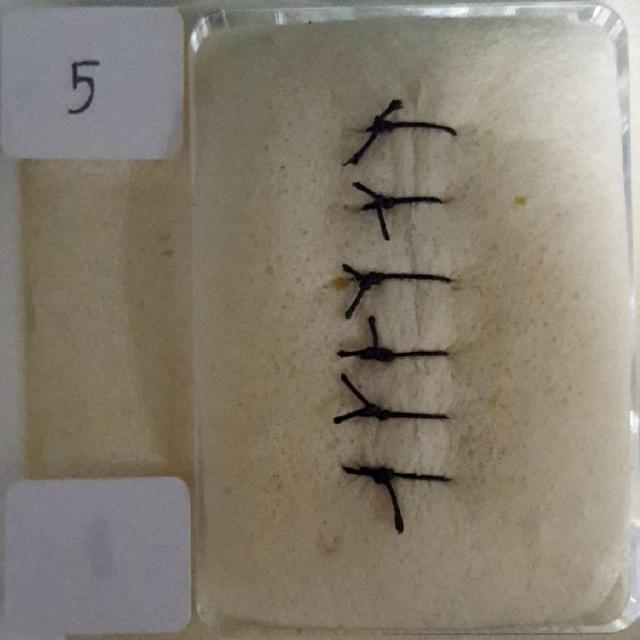knot: (361, 346, 395, 362), (360, 273, 385, 291), (362, 405, 391, 420), (372, 468, 393, 485), (375, 196, 395, 209), (372, 121, 393, 132)
leftover: (338, 370, 376, 417), (349, 122, 384, 167), (343, 275, 373, 323), (381, 474, 402, 534), (350, 179, 390, 206), (374, 96, 404, 128), (341, 466, 386, 481), (367, 311, 380, 359), (376, 202, 390, 243), (340, 261, 365, 282), (331, 410, 366, 425), (334, 350, 375, 359)
stitch: (368, 120, 459, 138), (358, 195, 445, 213), (353, 273, 454, 284), (371, 471, 452, 483), (358, 350, 451, 360), (359, 411, 451, 420)
wound: (406, 78, 423, 513)
